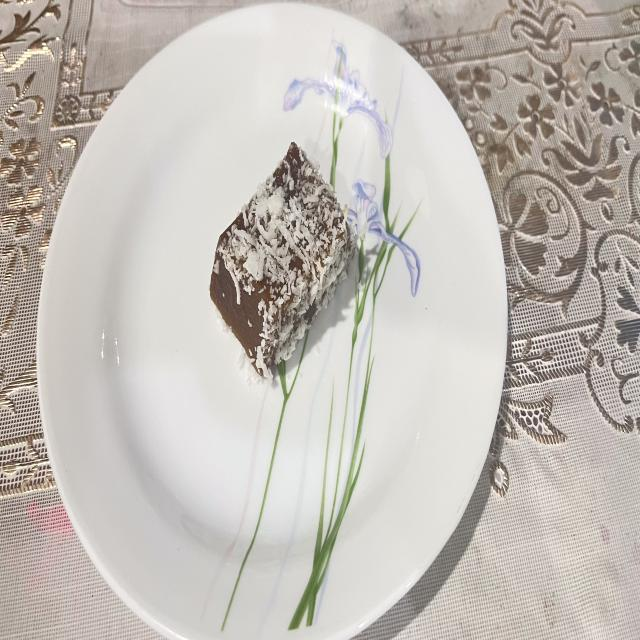kaswi: (210, 142, 356, 380)
